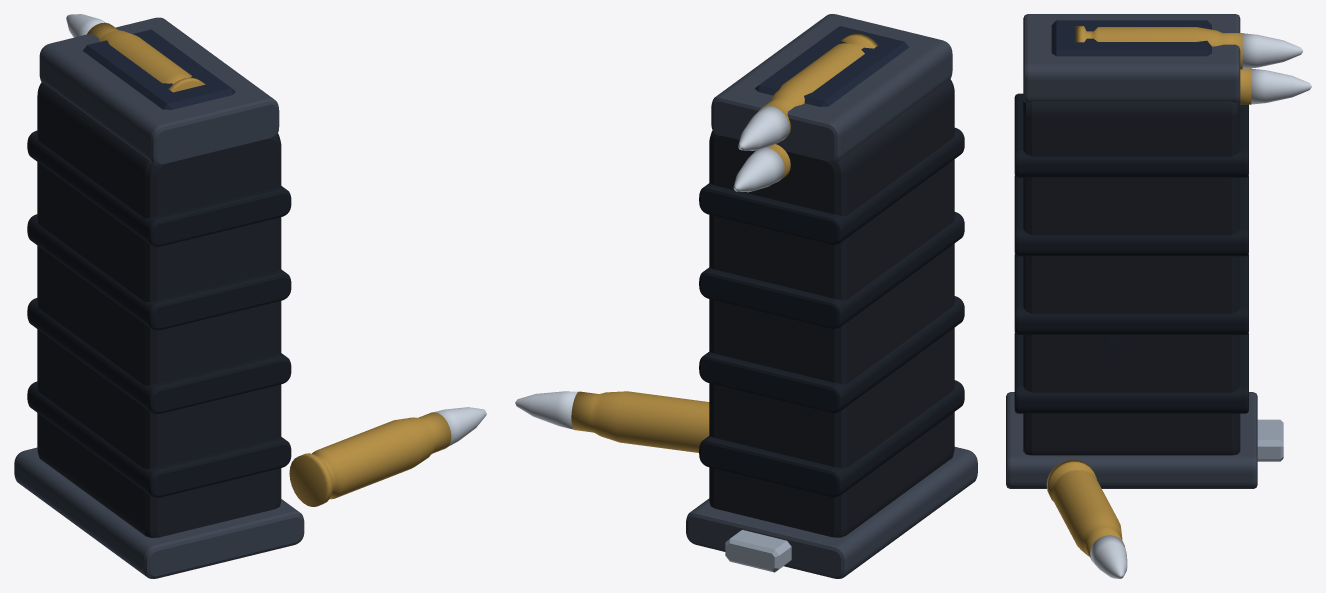
The model's file is ammo_standard.glb.
3 renders of one model, left to right at view 1: azimuth 30°, elevation 25°; view 2: azimuth 150°, elevation 25°; view 3: azimuth 270°, elevation 25°, orthographic. The views are drawn at different scales.
Parts seen in each view (by area): view 1: ammo_standard_mag, ammo_standard_lips, ammo_standard_base, ammo_standard_loose_case, ammo_standard_rib1, ammo_standard_rib0, ammo_standard_rib2, ammo_standard_rib3, ammo_standard_lip_cut, ammo_standard_top_case, ammo_standard_loose_tip; view 2: ammo_standard_mag, ammo_standard_lips, ammo_standard_base, ammo_standard_rib0, ammo_standard_rib2, ammo_standard_rib1, ammo_standard_rib3, ammo_standard_loose_case, ammo_standard_lip_cut, ammo_standard_top_case, ammo_standard_base_tab, ammo_standard_top_tip (+2 smaller); view 3: ammo_standard_mag, ammo_standard_lips, ammo_standard_base, ammo_standard_rib0, ammo_standard_rib3, ammo_standard_rib2, ammo_standard_rib1, ammo_standard_loose_case, ammo_standard_lip_cut, ammo_standard_top_case, ammo_standard_top_tip, ammo_standard_second_tip (+3 smaller).
Part boxes in pixels (x1=…): ammo_standard_mag: x1=37, y1=82, x2=281, y2=537; ammo_standard_lips: x1=39, y1=17, x2=279, y2=165; ammo_standard_base: x1=14, y1=447, x2=304, y2=578; ammo_standard_loose_case: x1=289, y1=412, x2=451, y2=506; ammo_standard_rib1: x1=27, y1=298, x2=291, y2=414; ammo_standard_rib0: x1=27, y1=381, x2=291, y2=497; ammo_standard_rib2: x1=27, y1=214, x2=291, y2=330; ammo_standard_rib3: x1=27, y1=130, x2=291, y2=246; ammo_standard_lip_cut: x1=83, y1=29, x2=235, y2=109; ammo_standard_top_case: x1=87, y1=22, x2=205, y2=92; ammo_standard_loose_tip: x1=434, y1=407, x2=486, y2=446; ammo_standard_mag: x1=709, y1=79, x2=954, y2=537; ammo_standard_lips: x1=711, y1=14, x2=952, y2=163; ammo_standard_base: x1=686, y1=447, x2=977, y2=578; ammo_standard_rib0: x1=699, y1=380, x2=964, y2=497; ammo_standard_rib2: x1=699, y1=212, x2=964, y2=328; ammo_standard_rib1: x1=699, y1=296, x2=964, y2=412; ammo_standard_rib3: x1=699, y1=127, x2=964, y2=244; ammo_standard_loose_case: x1=571, y1=391, x2=709, y2=452; ammo_standard_lip_cut: x1=755, y1=26, x2=908, y2=106; ammo_standard_top_case: x1=759, y1=33, x2=878, y2=141; ammo_standard_base_tab: x1=725, y1=530, x2=791, y2=572; ammo_standard_top_tip: x1=738, y1=106, x2=789, y2=150; ammo_standard_mag: x1=1023, y1=100, x2=1240, y2=455; ammo_standard_lips: x1=1023, y1=14, x2=1240, y2=102; ammo_standard_base: x1=1006, y1=392, x2=1257, y2=488; ammo_standard_rib0: x1=1014, y1=333, x2=1248, y2=413; ammo_standard_rib3: x1=1014, y1=93, x2=1248, y2=177; ammo_standard_rib2: x1=1014, y1=175, x2=1248, y2=256; ammo_standard_rib1: x1=1014, y1=254, x2=1248, y2=334; ammo_standard_loose_case: x1=1046, y1=460, x2=1124, y2=562; ammo_standard_lip_cut: x1=1051, y1=20, x2=1211, y2=56; ammo_standard_top_case: x1=1075, y1=26, x2=1242, y2=69; ammo_standard_top_tip: x1=1242, y1=33, x2=1302, y2=68; ammo_standard_second_tip: x1=1251, y1=68, x2=1311, y2=104.
Size of the model in its own units: 0.1002 by 0.1088 by 0.0705.
